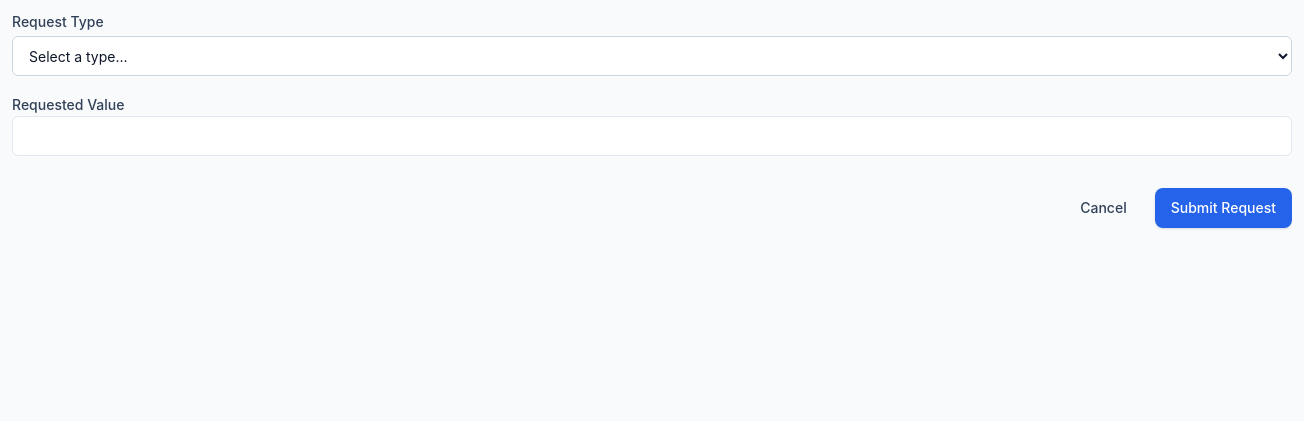
Test: CreateRequestForm Component › handles API errors during submission
Select "Hardware" in the dropdown: (652, 56) [12,36,1292,76]
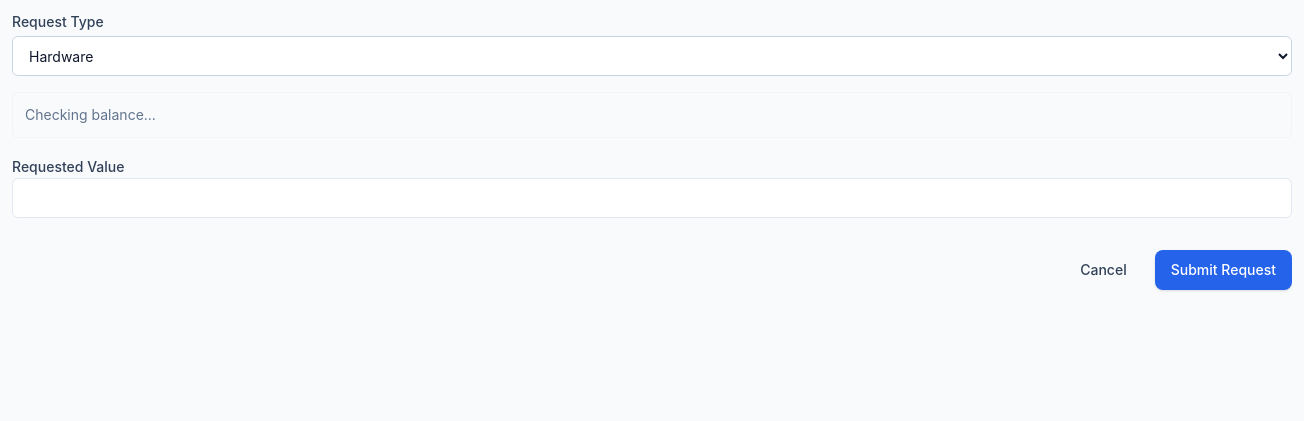
In the number field labelled "Requested Value": (652, 198) [12,178,1292,218], type "100"
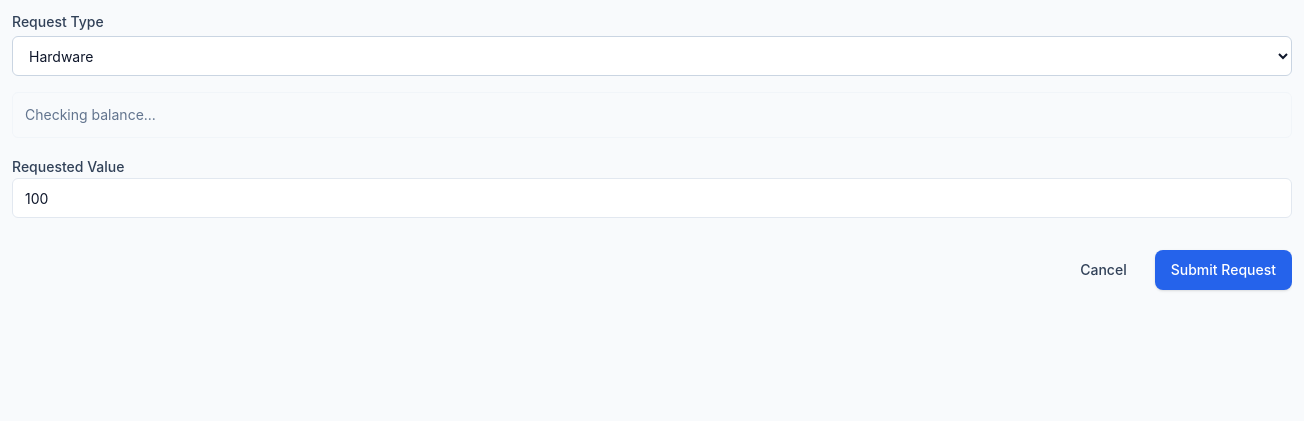
Click the button "Submit Request": (1223, 270) [1155,250,1292,290]
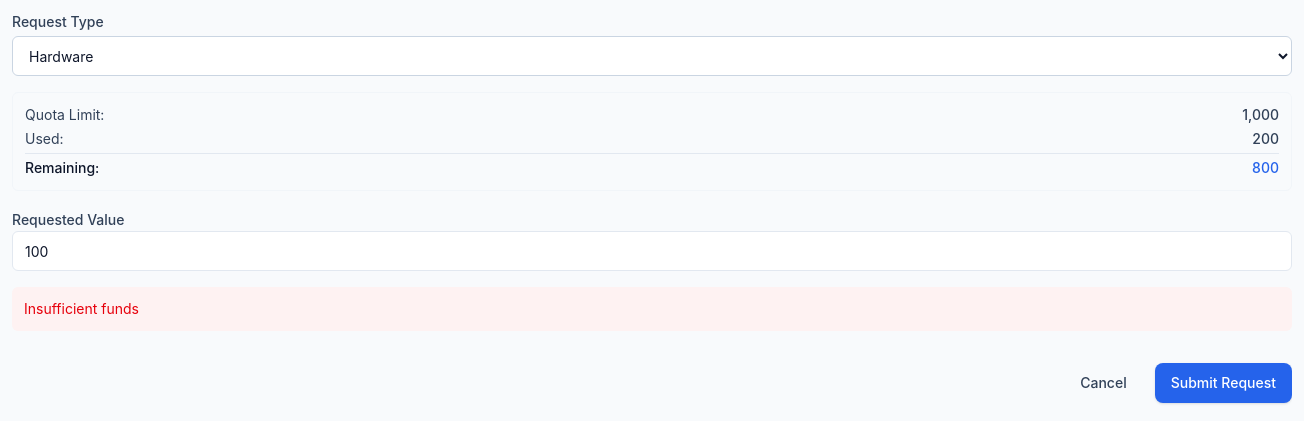
Result: the text "Insufficient funds" is shown at [12,287,1292,331]
